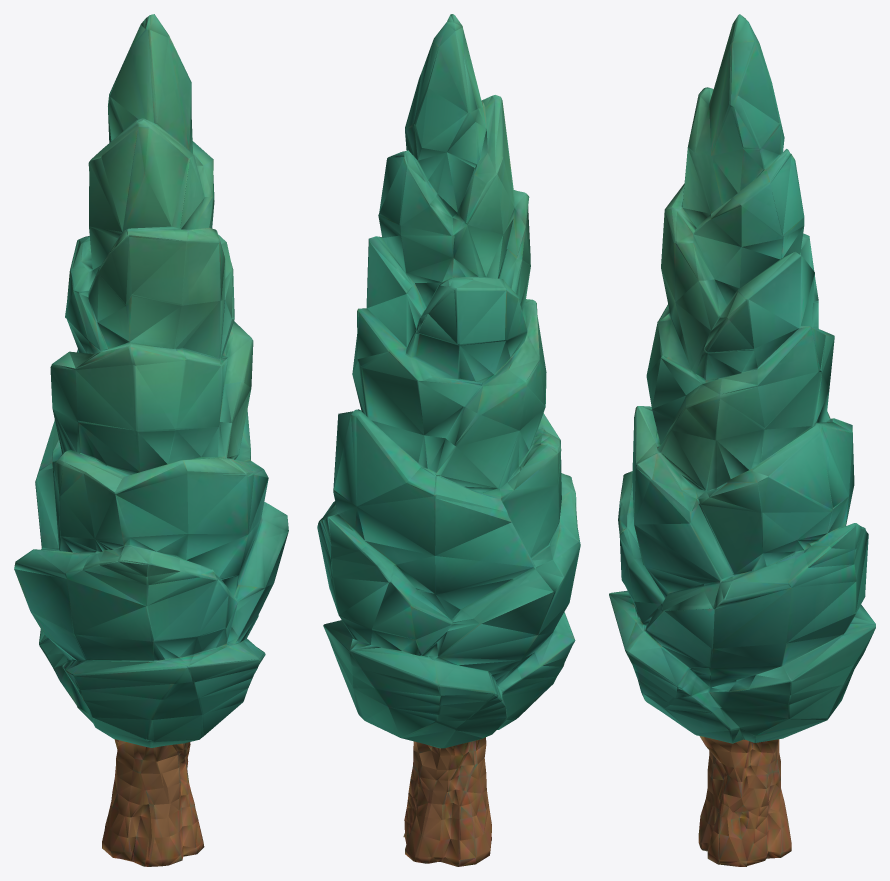
File: cypress.glb
3 renders of one model, left to right at view 1: azimuth 30°, elevation 25°; view 2: azimuth 150°, elevation 25°; view 3: azimuth 270°, elevation 25°, orthographic.
Parts seen in each view (by area): view 1: tripo_node_c722a86b-02e7-4ae3-8ecc-250317cc4aa8; view 2: tripo_node_c722a86b-02e7-4ae3-8ecc-250317cc4aa8; view 3: tripo_node_c722a86b-02e7-4ae3-8ecc-250317cc4aa8.
Boxes of the visible parts, x1,y1,x2,y2 form: tripo_node_c722a86b-02e7-4ae3-8ecc-250317cc4aa8: (14,14,288,866); tripo_node_c722a86b-02e7-4ae3-8ecc-250317cc4aa8: (317,14,580,866); tripo_node_c722a86b-02e7-4ae3-8ecc-250317cc4aa8: (609,14,875,866).
Bounding box in the file's own units: 9.77 × 31 × 9.04.
Materials: 1 (1 with a texture image).
